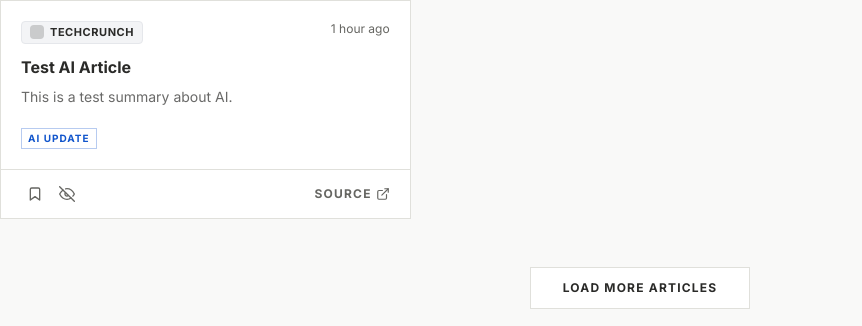
Test case: Feed › load-more behavior appends items
Check: the link "Test AI Article" is shown, box [21, 56, 131, 76]
What coordinates should you click on to do the following:
click the button "Load more articles"
I would click on:
 (640, 288)
Its box is [530, 267, 750, 309].
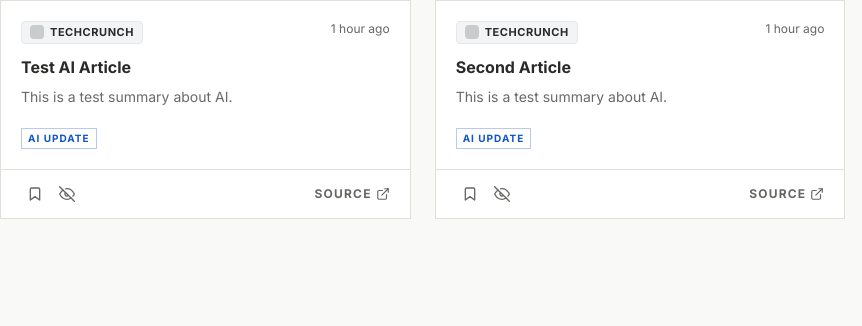
Check: the link "Test AI Article" is shown, box [21, 56, 131, 76]
Check: the link "Second Article" is shown, box [456, 56, 571, 76]
